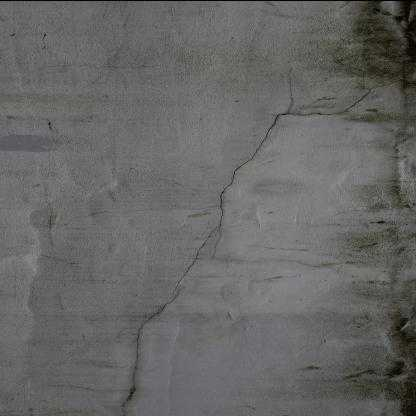crack: (117, 75, 403, 416)
